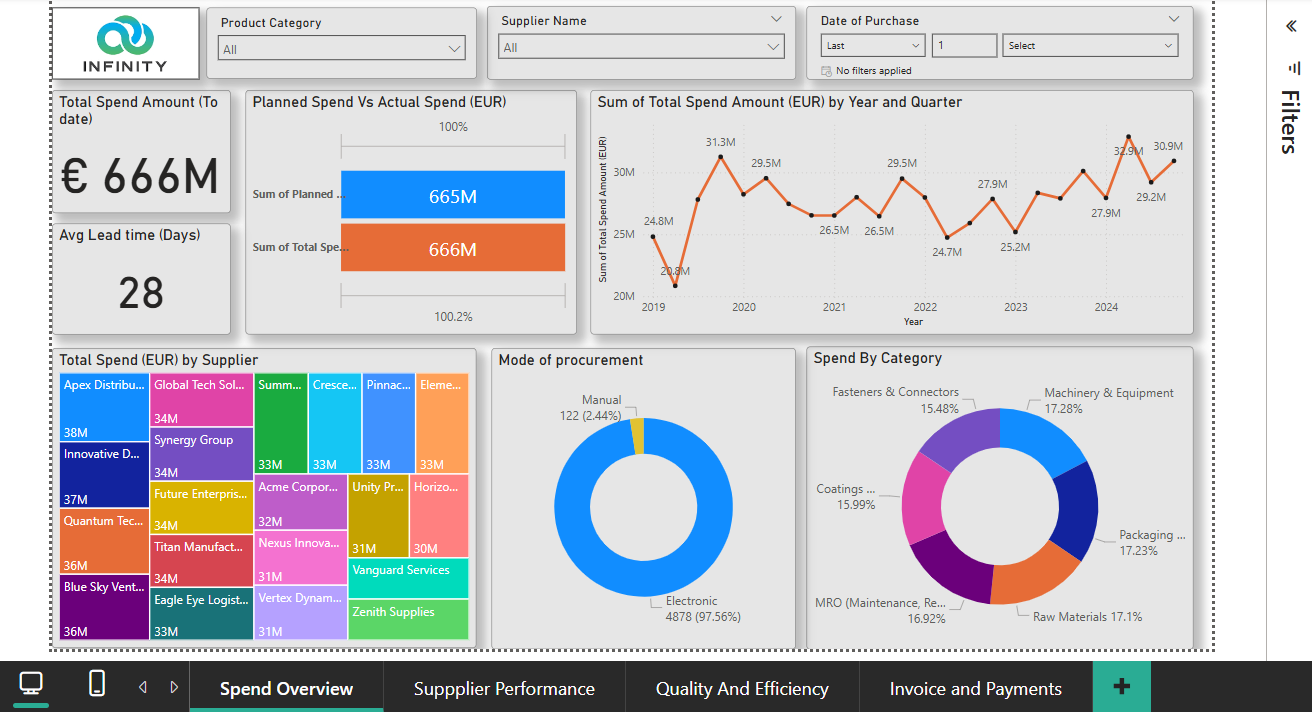

This screenshot's page, from the dashboard's own definition file:
{"tool":"powerbi","page":{"name":"Spend Overview","canvas":[1280,720],"ordinal":0},"visuals":[{"type":"card","title":"Total Spend Amount (To date)","fields":{"Values":["Sum(1744566314664x46629731954938890.Total Spend Amount (EUR))"]},"box":[0,102.7,197.1,135.8],"z":0},{"type":"treemap","title":"Total Spend (EUR) by Supplier","fields":{"Group":["1744566314664x46629731954938890.Supplier Name"],"Values":["Sum(1744566314664x46629731954938890.Total Spend Amount (EUR))"]},"box":[0,387.6,468.8,331.3],"z":1000},{"type":"donutChart","title":"Spend By Category","fields":{"Y":["Sum(1744566314664x46629731954938890.Total Spend Amount (EUR))"],"Category":["1744566314664x46629731954938890.Product Category"]},"box":[833.2,386,427.4,334.6],"z":2000},{"type":"funnel","title":"Planned Spend Vs Actual Spend (EUR)","fields":{"Y":["Sum(Procurement Data.Planned Spend Amount (EUR))","Sum(Procurement Data.Total Spend Amount (EUR))"]},"box":[208.7,102.7,371.1,270],"z":3000},{"type":"donutChart","title":"Mode of procurement","fields":{"Y":["1744566314664x46629731954938890.Mode of procurement count"],"Category":["1744566314664x46629731954938890.Mode of Procurement"]},"box":[485.3,387.6,336.3,333],"z":4000},{"type":"card","title":"Avg Lead time (Days)","fields":{"Values":["Procurement Data.Avg_lead_time"]},"box":[0,250.1,197.1,122.6],"z":5000},{"type":"image","box":[0,11.6,162.3,79.5],"z":6000},{"type":"slicer","fields":{"Values":["Procurement Data.Supplier Name"]},"box":[480.4,9.9,341.2,81.2],"z":7000},{"type":"slicer","fields":{"Values":["Procurement Data.Date of Purchase"]},"box":[833.2,9.9,427.4,81.2],"z":8000},{"type":"slicer","fields":{"Values":["Procurement Data.Product Category"]},"box":[170,11.2,298.8,78.4],"z":9000},{"type":"lineChart","fields":{"Category":["Procurement Data.Date of Purchase.Variation.Date Hierarchy.Year","Procurement Data.Date of Purchase.Variation.Date Hierarchy.Quarter","Procurement Data.Date of Purchase.Variation.Date Hierarchy.Month","Procurement Data.Date of Purchase.Variation.Date Hierarchy.Day"],"Y":["Sum(Procurement Data.Total Spend Amount (EUR))"]},"box":[594.7,102.7,665.9,270],"z":10000}]}

Visuals, with their boxes on the page's 1280x720 design canvas (x1, y1, x2, y2). These are canvas units, not pixel positions in the 1312x712 screenshot, which may show the page scaled, cropped or inside an application window:
"Total Spend Amount (To date)" card: <region>0, 103, 197, 238</region>
"Total Spend (EUR) by Supplier" treemap: <region>0, 388, 469, 719</region>
"Spend By Category" donutChart: <region>833, 386, 1261, 721</region>
"Planned Spend Vs Actual Spend (EUR)" funnel: <region>209, 103, 580, 373</region>
"Mode of procurement" donutChart: <region>485, 388, 822, 721</region>
"Avg Lead time (Days)" card: <region>0, 250, 197, 373</region>
image: <region>0, 12, 162, 91</region>
slicer - Procurement Data.Supplier Name: <region>480, 10, 822, 91</region>
slicer - Procurement Data.Date of Purchase: <region>833, 10, 1261, 91</region>
slicer - Procurement Data.Product Category: <region>170, 11, 469, 90</region>
lineChart - Procurement Data.Date of Purchase.Variation.Date Hierarchy.Year x Procurement Data.Date of Purchase.Variation.Date Hierarchy.Quarter: <region>595, 103, 1261, 373</region>
